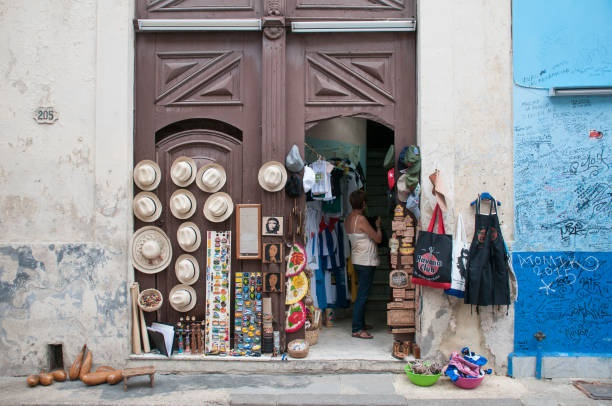bita: (130, 281, 150, 351)
